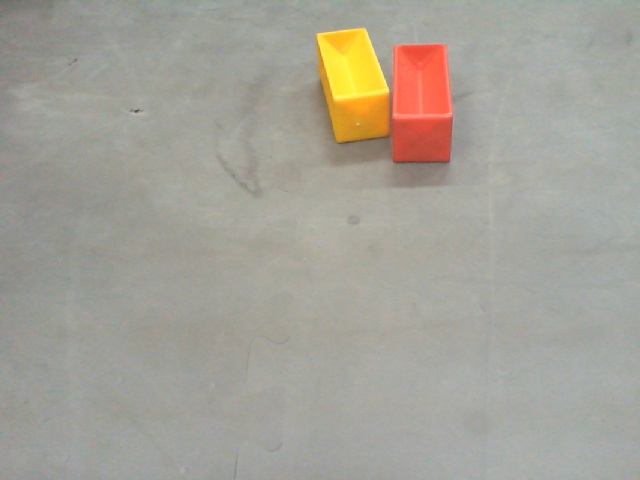RedSample: (389, 42, 453, 168)
YellowSample: (314, 21, 392, 142)
